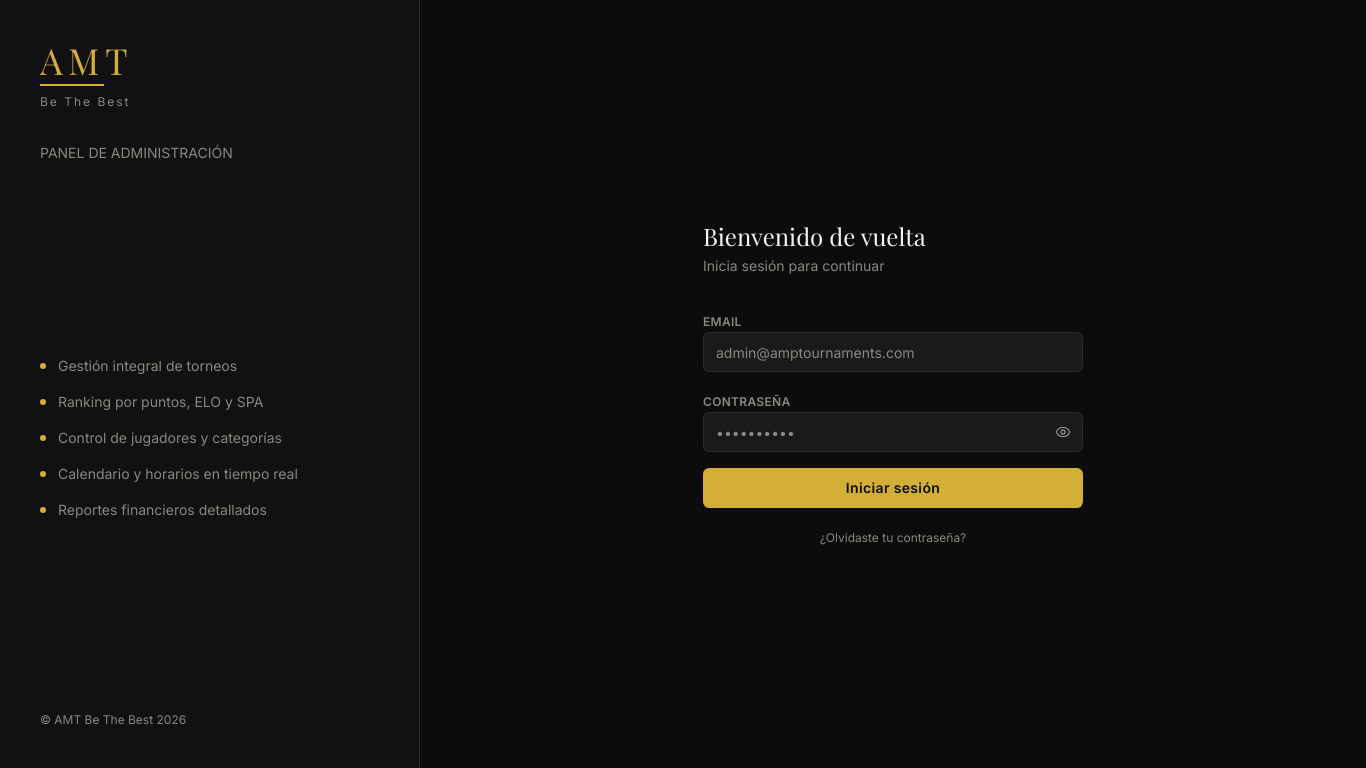
Test: LoginForm › muestra "Iniciando sesión..." y spinner mientras el formulario se envía
Type "admin@test.com" into the field with placeholder "admin@amptournaments.com" at [893, 352], box [703,332,1083,372]
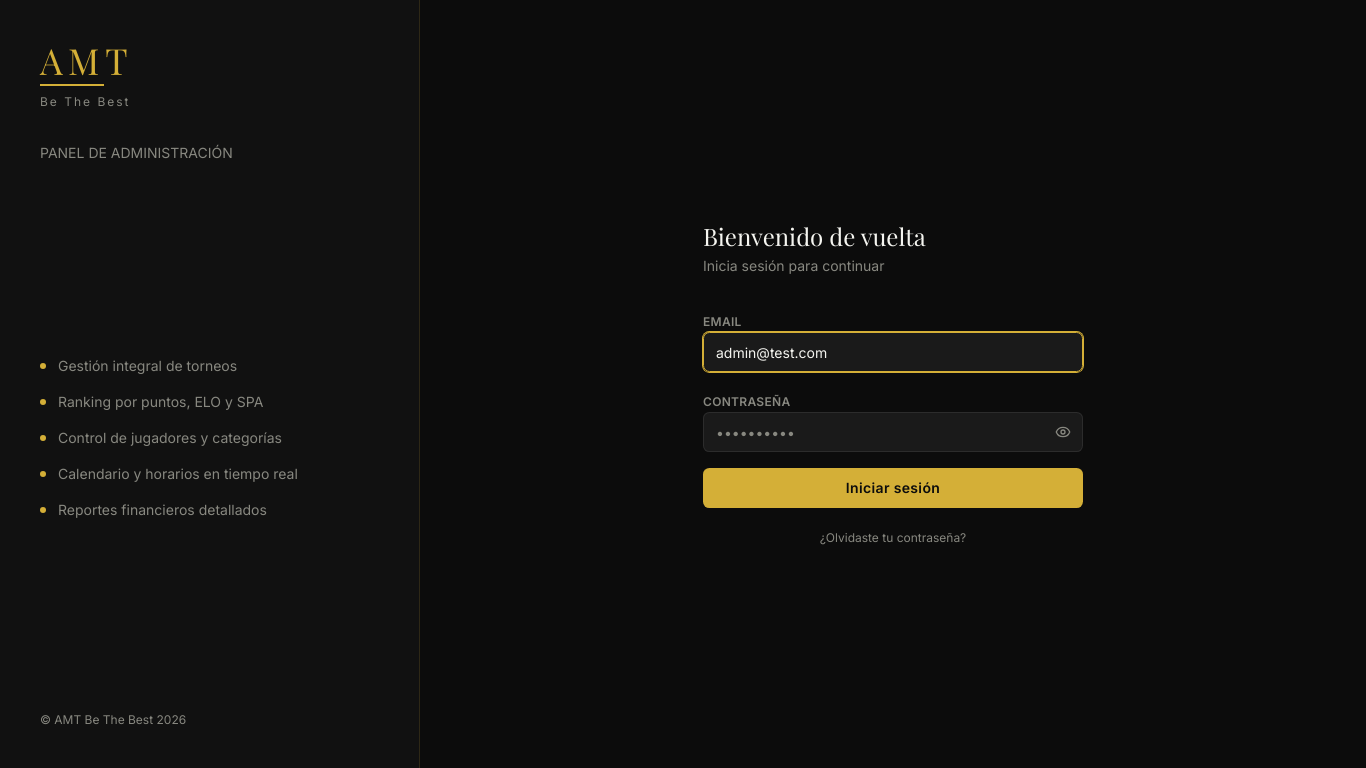
Type "mipassword" into the password field with placeholder "••••••••••" at [893, 432], box [703,412,1083,452]
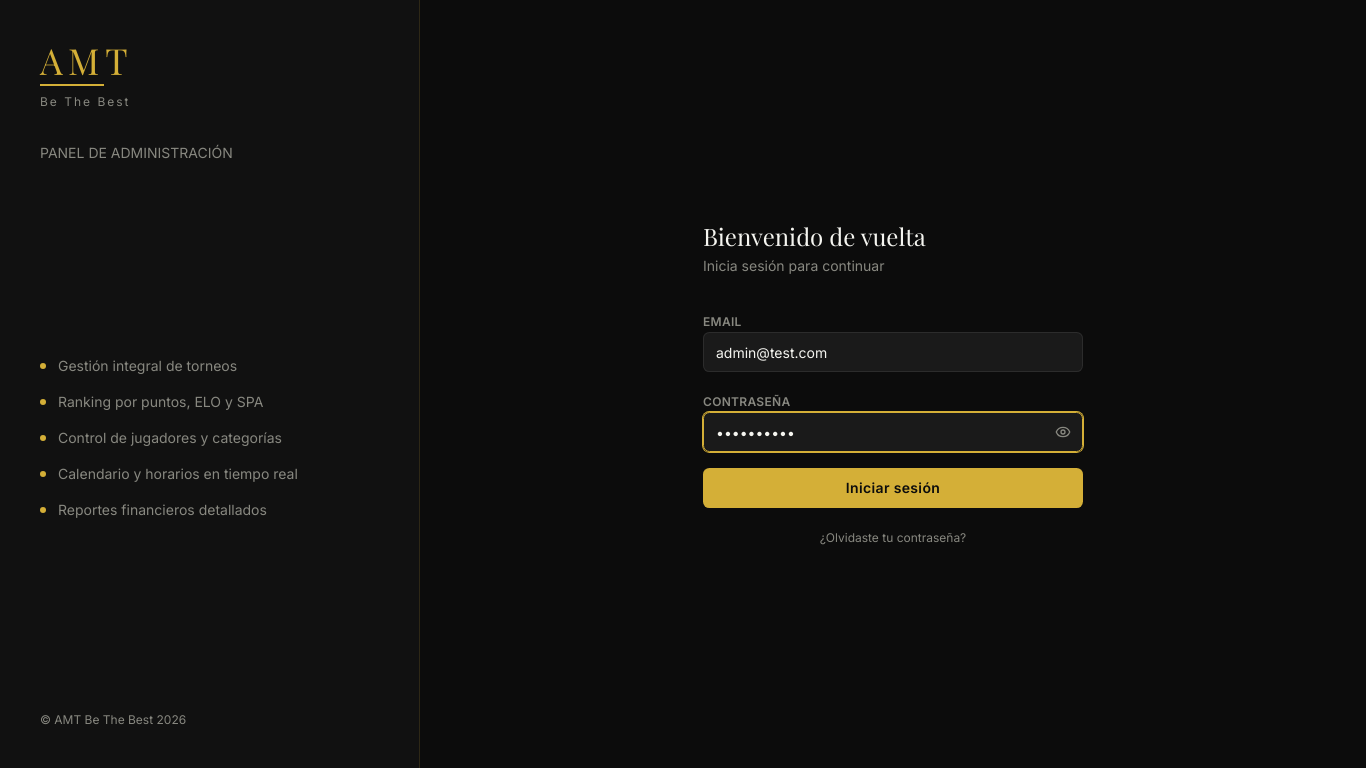
Submit the form "Email Contraseña Iniciar sesión ¿Olvidaste tu contraseña?", box [703,308,1083,548]
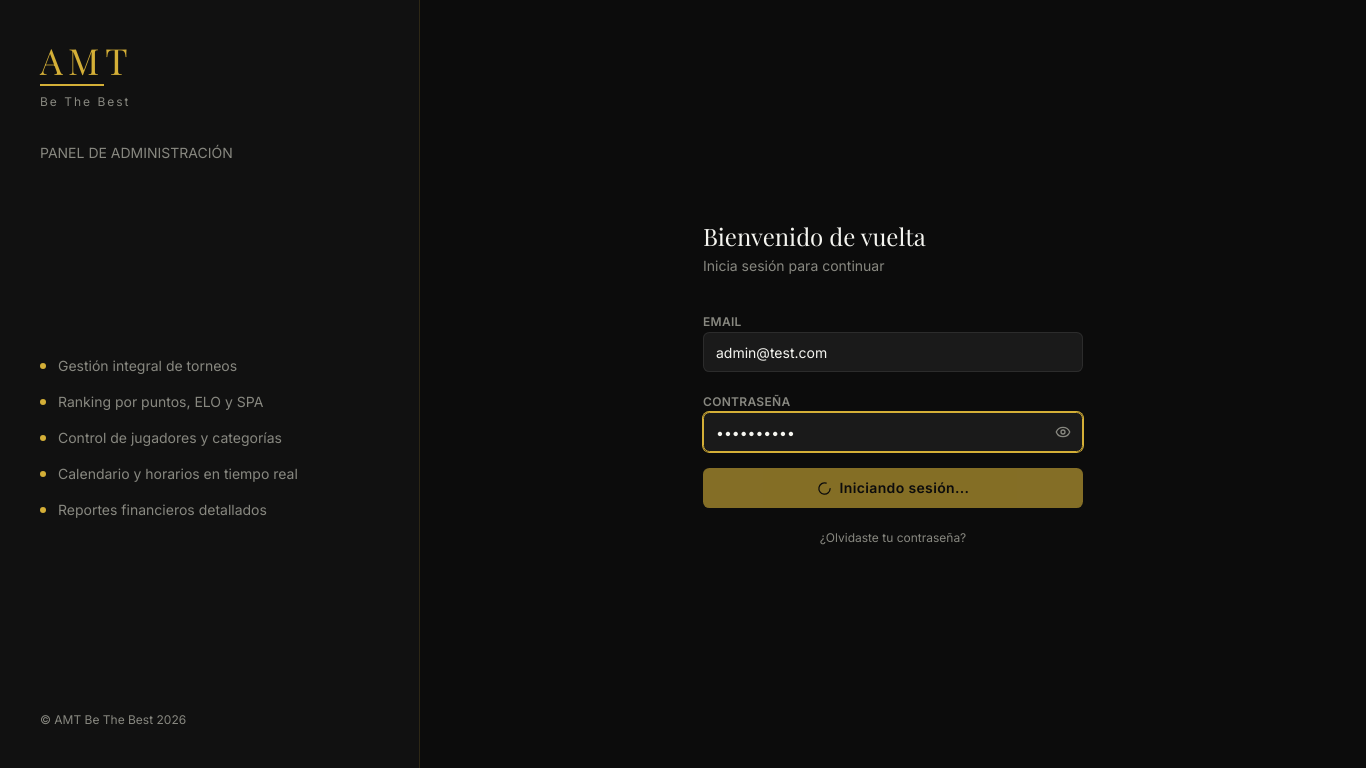
Now the button "Iniciando sesión..." is shown, box [703,468,1083,508]
Now the icon with class "animate-spin" is shown, box [817,480,832,496]
